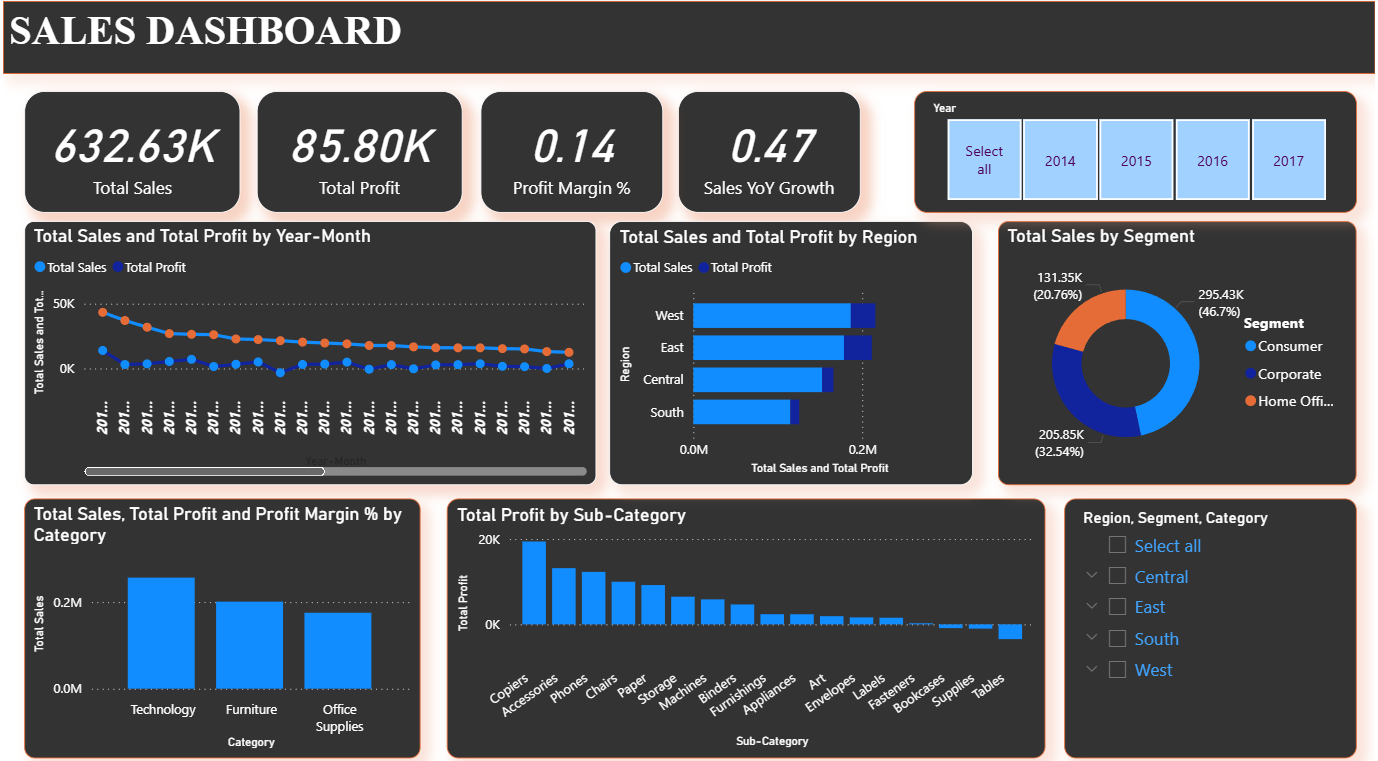

What the dashboard file says about the page in this screenshot:
{"tool":"powerbi","page":{"name":"Dashboard","canvas":[1280,720],"ordinal":0},"visuals":[{"type":"card","fields":{"Values":["DateTable.Total Sales"]},"box":[20.2,83.7,202,114],"z":0},{"type":"card","fields":{"Values":["DateTable.Total Profit"]},"box":[236.6,83.7,191.9,114],"z":1},{"type":"card","fields":{"Values":["DateTable.Sales YoY Growth"]},"box":[629,83.7,170.2,114],"z":2},{"type":"card","fields":{"Values":["DateTable.Profit Margin %"]},"box":[445.8,83.7,170.2,114],"z":3},{"type":"lineChart","fields":{"Y":["DateTable.Total Sales","DateTable.Total Profit"],"Category":["DateTable.Year-Month"]},"box":[20.2,204.9,533.8,246.7],"z":4},{"type":"clusteredColumnChart","fields":{"Category":["Orders.Category"],"Y":["DateTable.Total Sales"]},"box":[20.2,464.6,369.3,242.4],"z":5},{"type":"clusteredColumnChart","fields":{"Category":["Orders.Sub-Category"],"Y":["DateTable.Total Profit"]},"box":[414.1,464.6,558.3,242.4],"z":6},{"type":"barChart","fields":{"Category":["Orders.Region"],"Y":["DateTable.Total Sales","DateTable.Total Profit"]},"box":[565.6,204.9,339,246.7],"z":7},{"type":"donutChart","fields":{"Category":["Orders.Segment"],"Y":["DateTable.Total Sales"]},"box":[927.7,204.9,334.7,246.7],"z":8},{"type":"slicer","fields":{"Values":["DateTable.Year"]},"box":[849.8,83.7,412.6,114],"z":10},{"type":"slicer","fields":{"Values":["Orders.Region","Orders.Segment","Orders.Category"]},"box":[989.7,464.6,272.7,242.4],"z":11},{"type":"textbox","box":[0,0,1279.7,67.8],"z":12}]}

Visuals, with their boxes in screenshot pixels (x1, y1, x2, y2), scaled from the page's 1280x720 canvas onto the 1378x761 screenshot:
card - DateTable.Total Sales: x1=22 y1=88 x2=239 y2=209
card - DateTable.Total Profit: x1=255 y1=88 x2=461 y2=209
card - DateTable.Sales YoY Growth: x1=677 y1=88 x2=860 y2=209
card - DateTable.Profit Margin %: x1=480 y1=88 x2=663 y2=209
lineChart - DateTable.Total Sales x DateTable.Total Profit: x1=22 y1=217 x2=596 y2=477
clusteredColumnChart - Orders.Category x DateTable.Total Sales: x1=22 y1=491 x2=419 y2=747
clusteredColumnChart - Orders.Sub-Category x DateTable.Total Profit: x1=446 y1=491 x2=1047 y2=747
barChart - Orders.Region x DateTable.Total Sales: x1=609 y1=217 x2=974 y2=477
donutChart - Orders.Segment x DateTable.Total Sales: x1=999 y1=217 x2=1359 y2=477
slicer - DateTable.Year: x1=915 y1=88 x2=1359 y2=209
slicer - Orders.Region x Orders.Segment: x1=1065 y1=491 x2=1359 y2=747
textbox: x1=0 y1=0 x2=1377 y2=72
